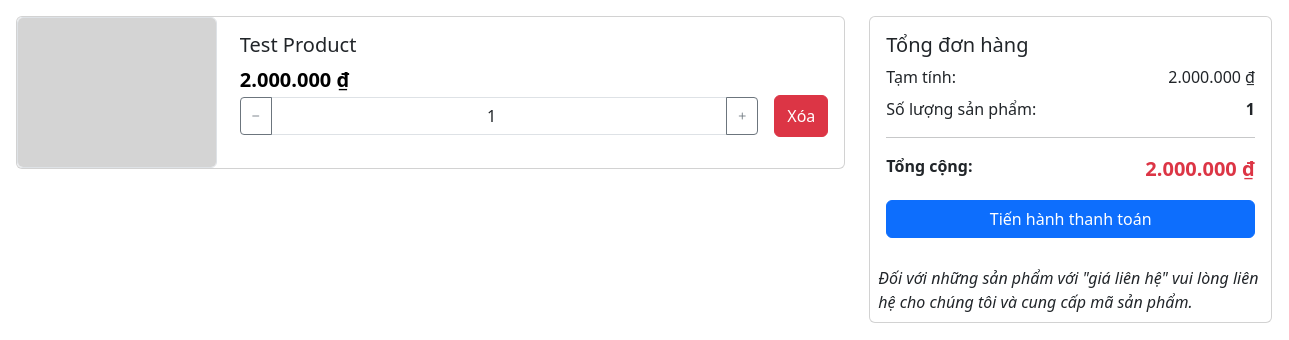
it: Cart Component › should remove item when clicking delete button
Click the button "Xóa": (801, 116) [774,95,828,137]
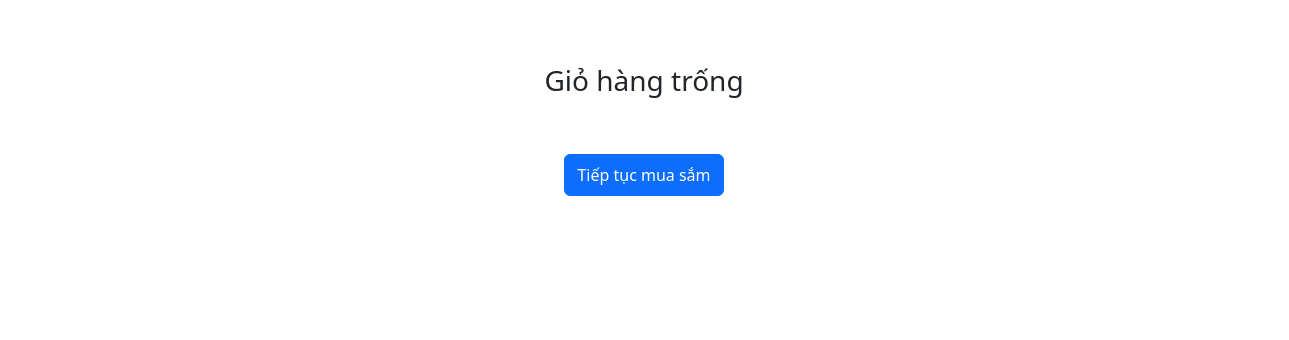
Expected: the link "Test Product" is gone
